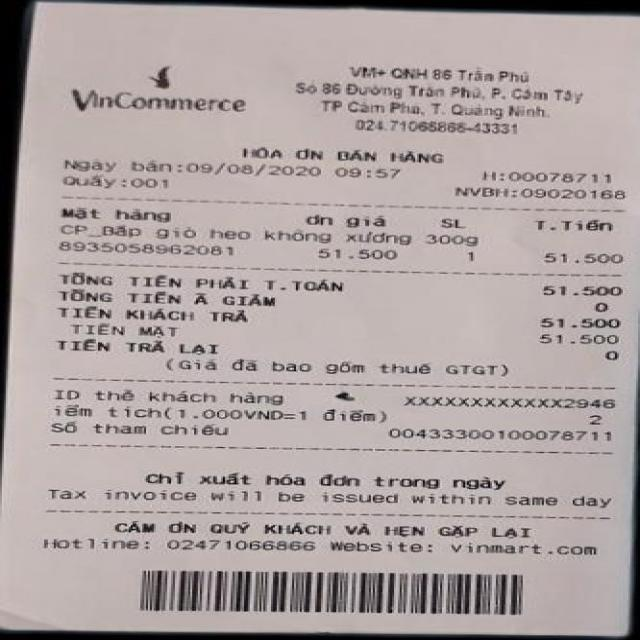Date: (181, 159, 325, 181)
Store_Name: (52, 49, 257, 123)
Total_Amount: (45, 268, 620, 296)
